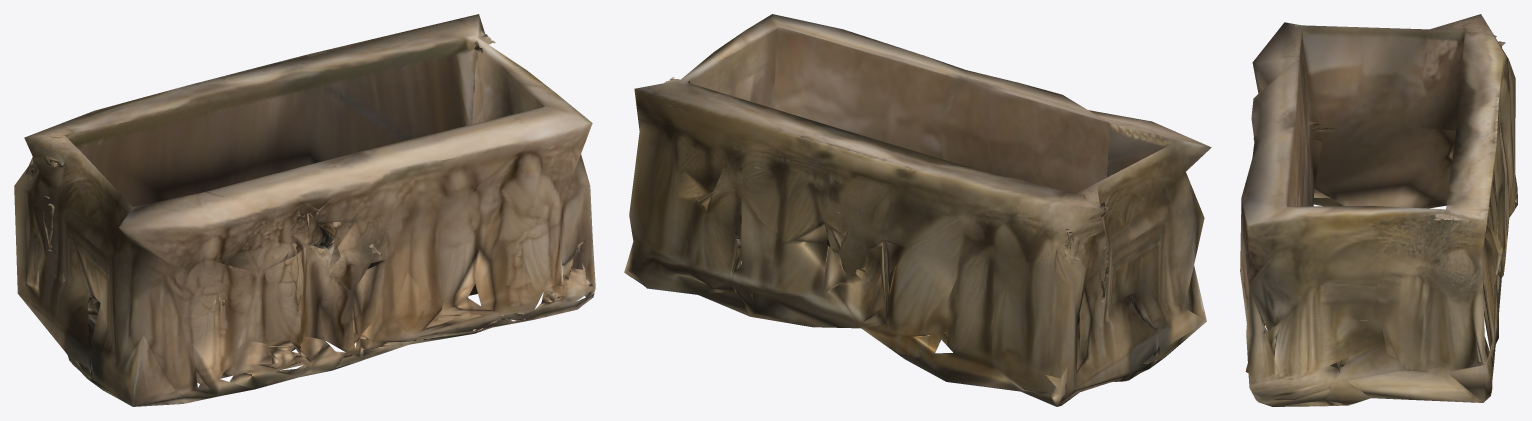
3 views of the same model, side by side, from view 1: azimuth 30°, elevation 25°; view 2: azimuth 150°, elevation 25°; view 3: azimuth 270°, elevation 25° (orthographic). The views are drawn at different scales.
Bounding box in the file's own units: 2 × 0.8455 × 1.05.
1 material, 1 textured.
